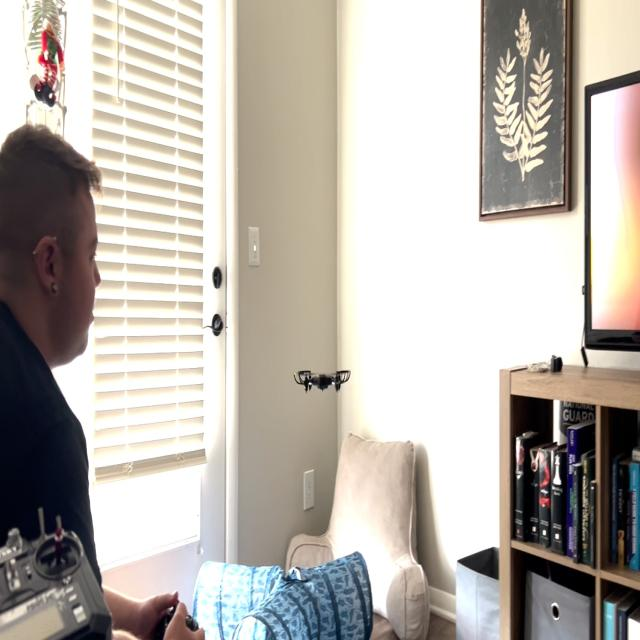drone: (287, 357, 356, 401)
